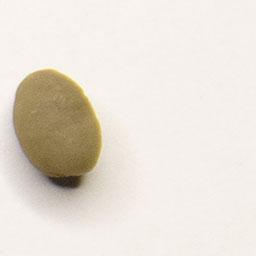peaberry: (10, 63, 106, 186)
